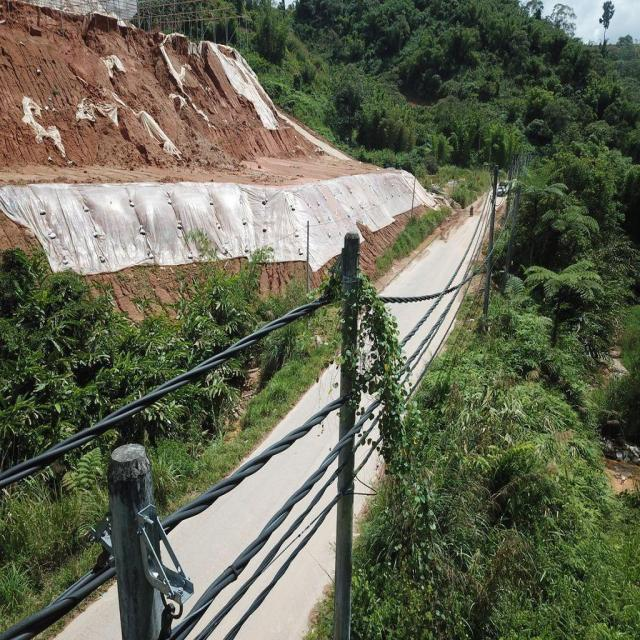critical vegetation: (320, 258, 436, 576)
